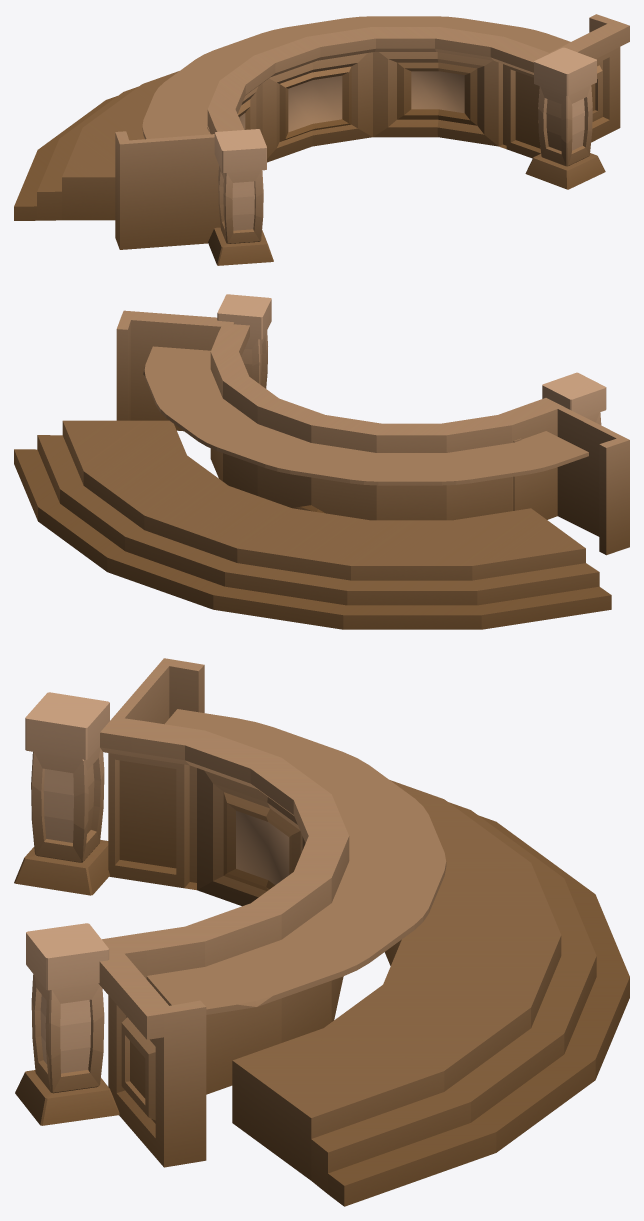
File: council table.fbx
3 views of the same model, one above another, from view 1: azimuth 30°, elevation 25°; view 2: azimuth 150°, elevation 25°; view 3: azimuth 270°, elevation 25° (orthographic). The views are drawn at different scales.
Parts seen in each view (by area): view 1: table; view 2: table; view 3: table.
Boxes of the visible parts, bbox=[...] form: table: bbox=[14, 14, 629, 265]; table: bbox=[14, 294, 629, 629]; table: bbox=[14, 658, 629, 1206].
Bounding box in the file's own units: 281 × 53.91 × 175.
